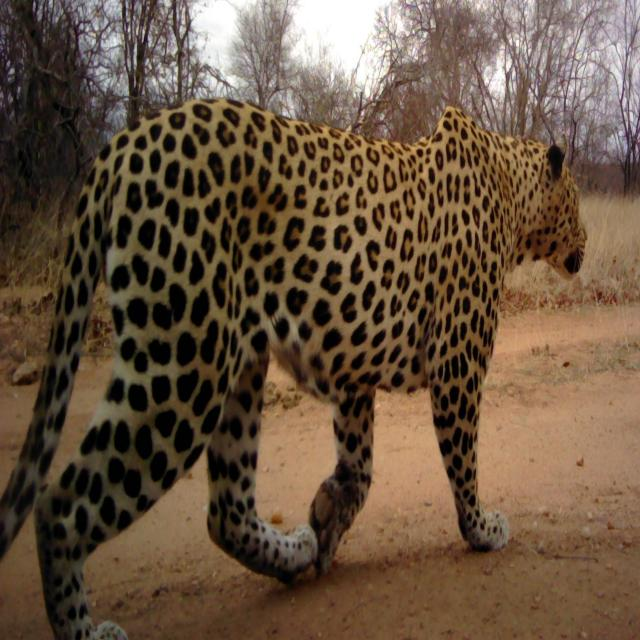Leopard: (4, 71, 571, 606)
